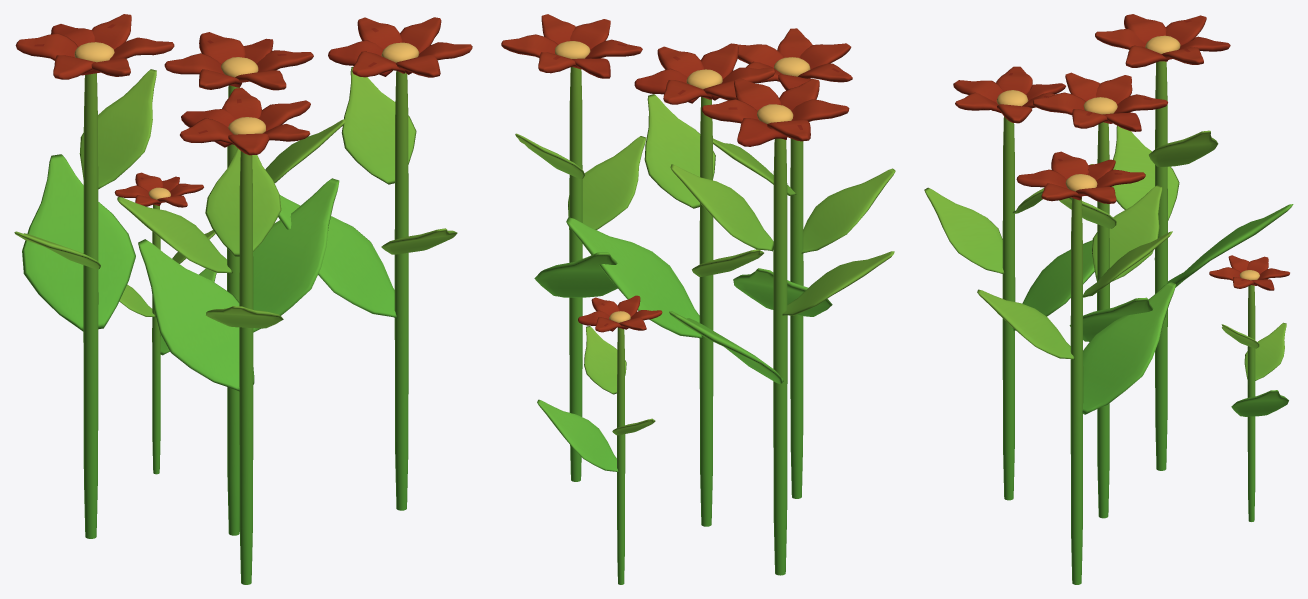
The model's file is Flowers-red-new.fbx.
3 views of the same model, side by side, from view 1: azimuth 30°, elevation 25°; view 2: azimuth 150°, elevation 25°; view 3: azimuth 270°, elevation 25° (orthographic). The views are drawn at different scales.
Visible parts, largest first — view 1: polySurface62; view 2: polySurface62; view 3: polySurface62.
Boxes of the visible parts, <box> form: polySurface62: <box>14,14,472,584</box>; polySurface62: <box>501,14,895,584</box>; polySurface62: <box>924,14,1293,584</box>.
Size of the model in its own units: 0.1897 by 0.2139 by 0.1639.
Materials: 1 (1 with a texture image).
